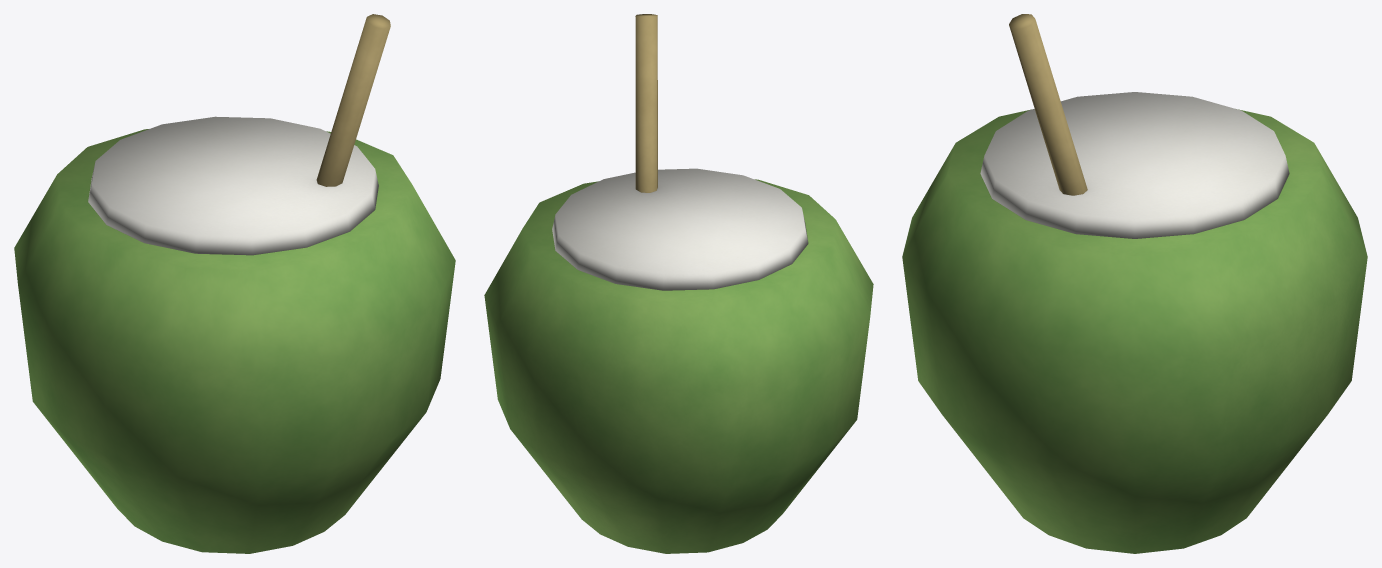
File: coconut_open.glb
3 views of the same model, side by side, from view 1: azimuth 30°, elevation 25°; view 2: azimuth 150°, elevation 25°; view 3: azimuth 270°, elevation 25° (orthographic). The views are drawn at different scales.
Visible parts, largest first — view 1: coconut_open.001; view 2: coconut_open.001; view 3: coconut_open.001.
Part boxes in pixels (x1,y1,x2,y2): coconut_open.001: (14, 14, 455, 553); coconut_open.001: (484, 14, 873, 553); coconut_open.001: (902, 14, 1367, 553).
Size of the model in its own units: 0.204 by 0.2733 by 0.204.
Materials: 1 (1 with a texture image).
